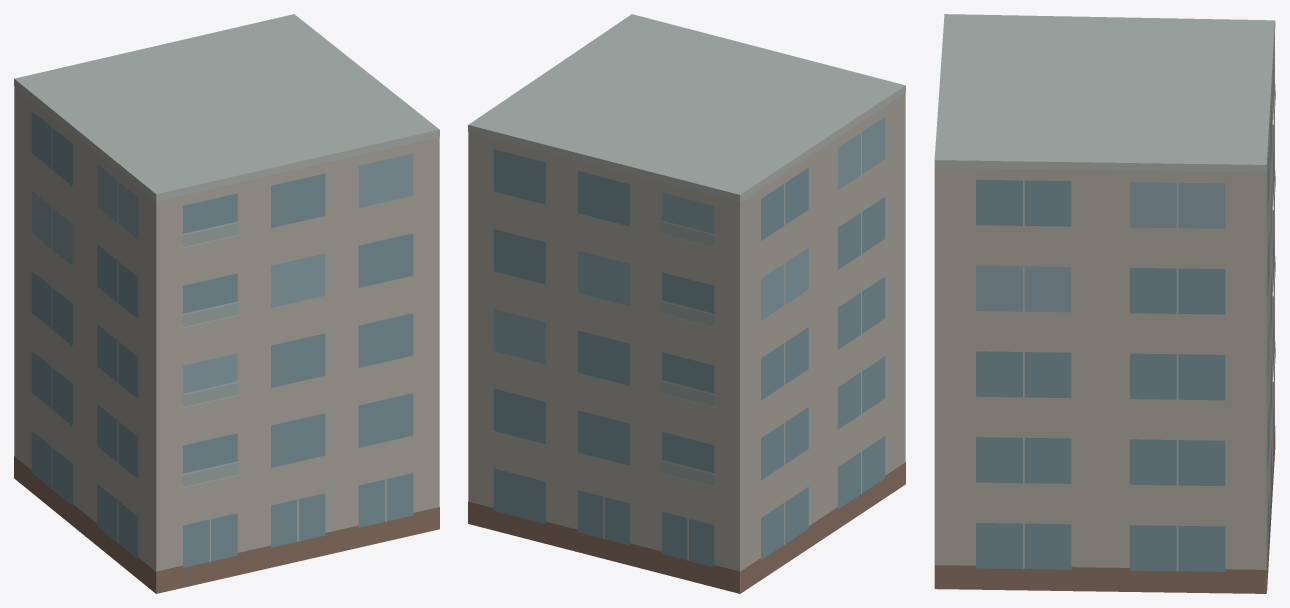
Rendered from survey-upis-32774284.glb.
3 views of the same model, side by side, from view 1: azimuth 30°, elevation 25°; view 2: azimuth 150°, elevation 25°; view 3: azimuth 270°, elevation 25° (orthographic). The views are drawn at different scales.
Parts seen in each view (by area): view 1: survey-upis-32774284.tmp; view 2: survey-upis-32774284.tmp; view 3: survey-upis-32774284.tmp.
Boxes of the visible parts, x1=… form: survey-upis-32774284.tmp: x1=14, y1=14, x2=439, y2=593; survey-upis-32774284.tmp: x1=468, y1=14, x2=905, y2=593; survey-upis-32774284.tmp: x1=934, y1=14, x2=1275, y2=593.
Bounding box in the file's own units: 10.2 × 13.5 × 9.74.
